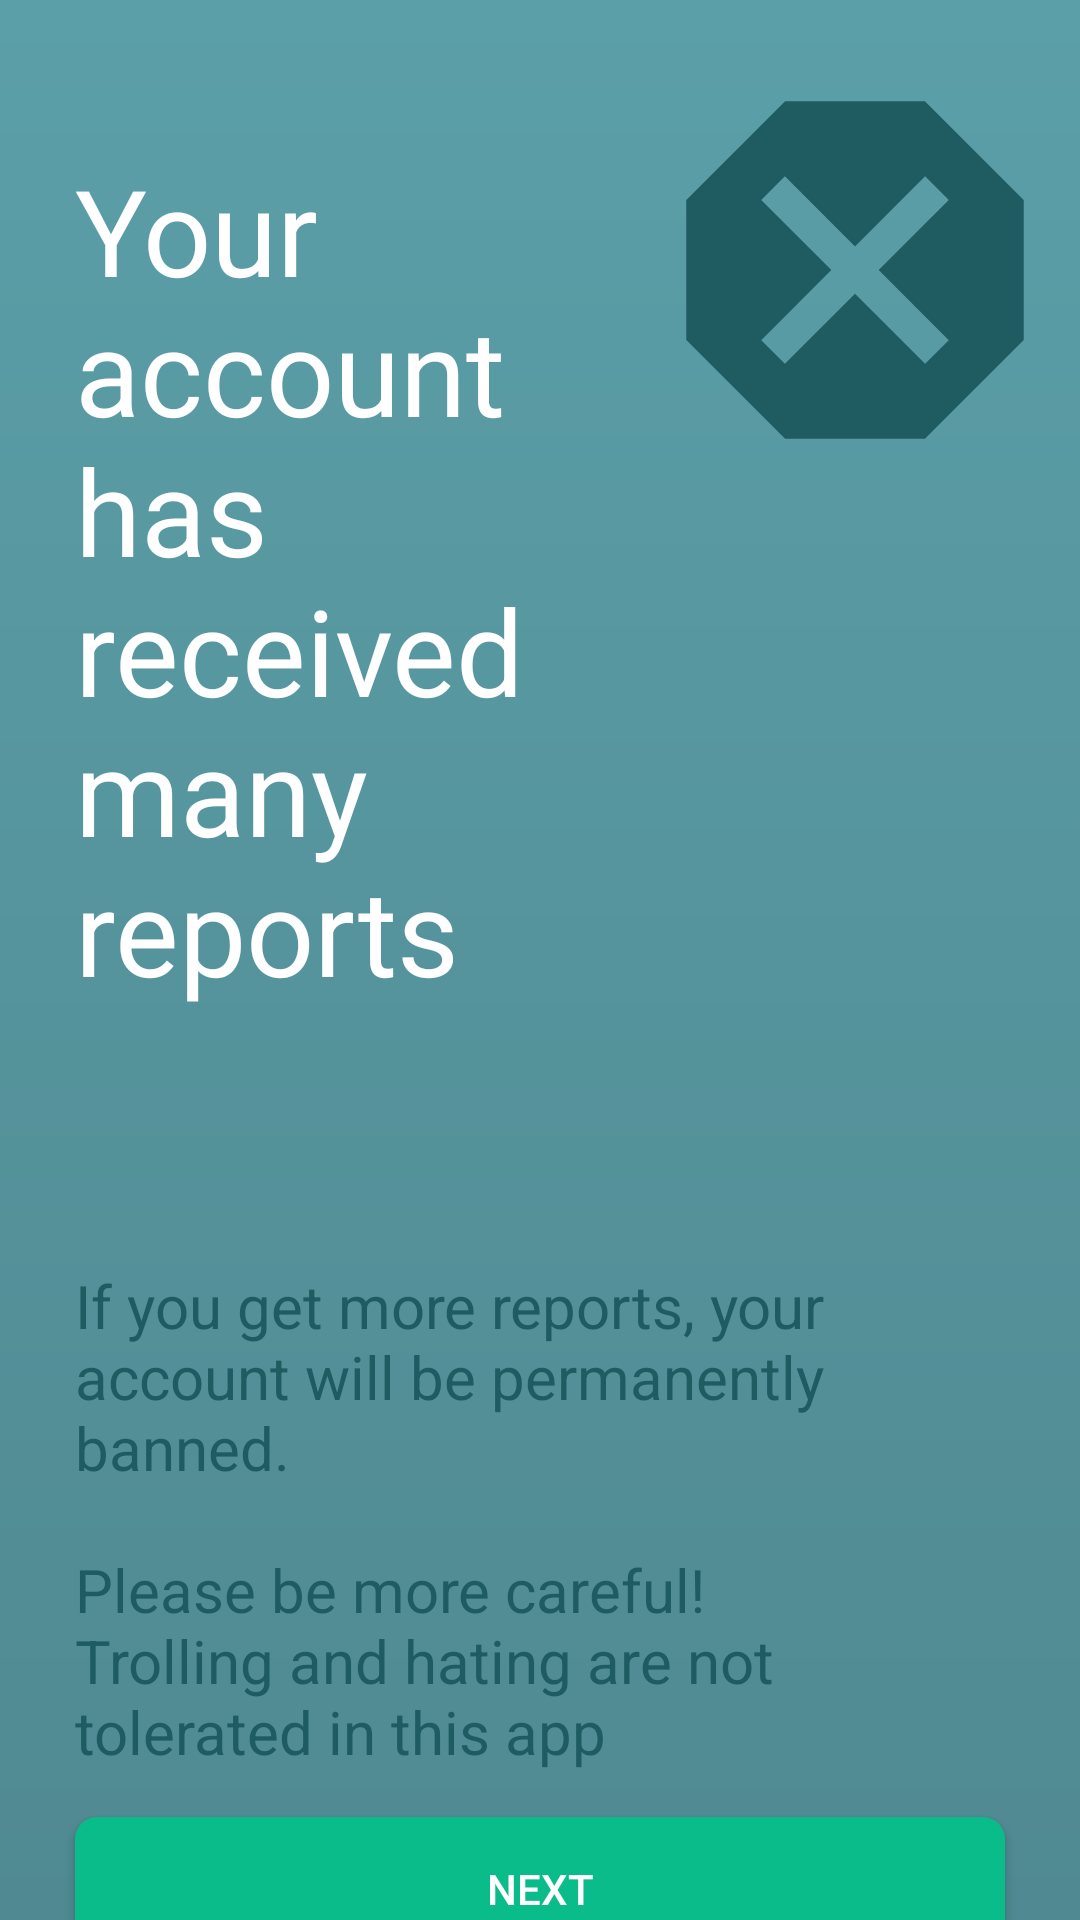

Where icons sit on this 1080×1920 app screen, as (x1, y1, x2, y2):
dangerous: (686, 101, 1024, 439)
